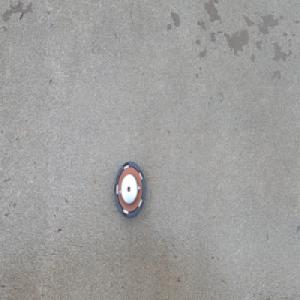FuelCap: (113, 159, 146, 219)
